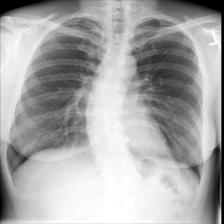normal: (3, 12, 209, 205)
